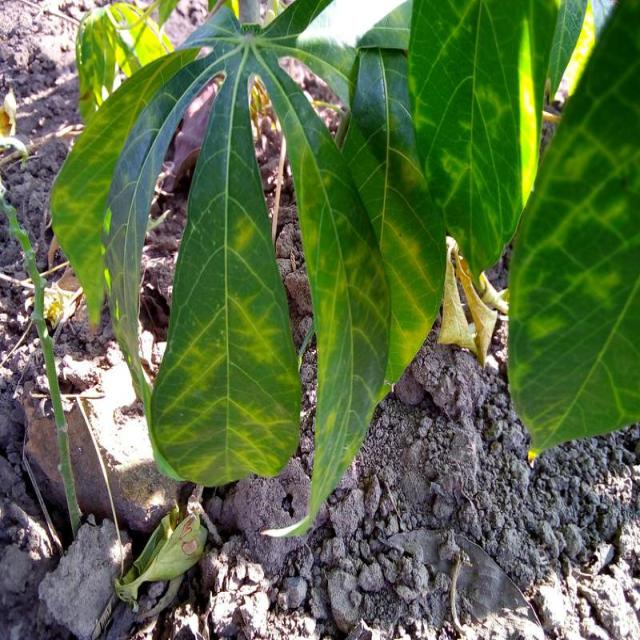cassava leaf: (148, 42, 303, 488), (507, 0, 640, 455), (407, 0, 561, 287), (341, 1, 449, 401)
